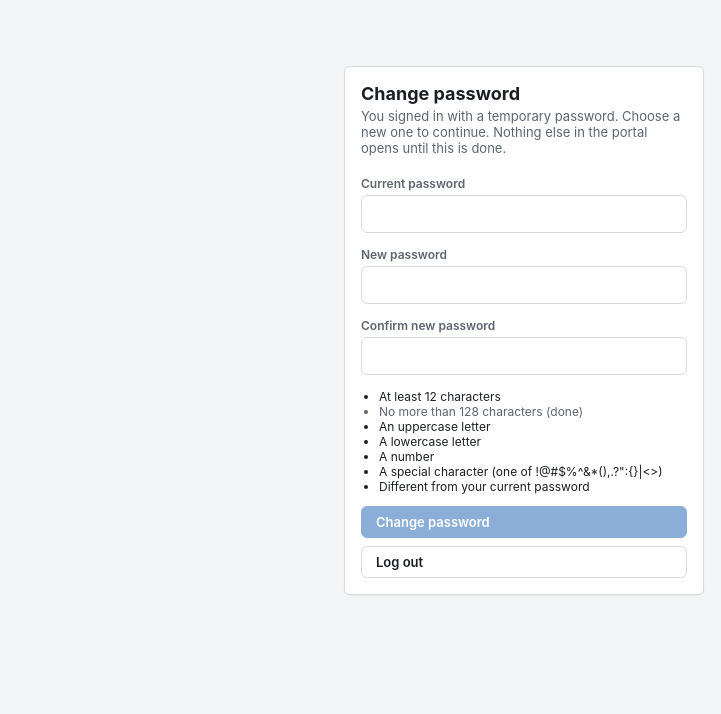
Scenario: First-login password change › shows the backend's error and stays on the screen when the change fails
expect the heading "Change password" is shown: met, box left=361, top=82, right=520, bottom=104
In the password field labelled "Current password": (524, 214) left=361, top=194, right=687, bottom=232, type "Temp-Password1!"
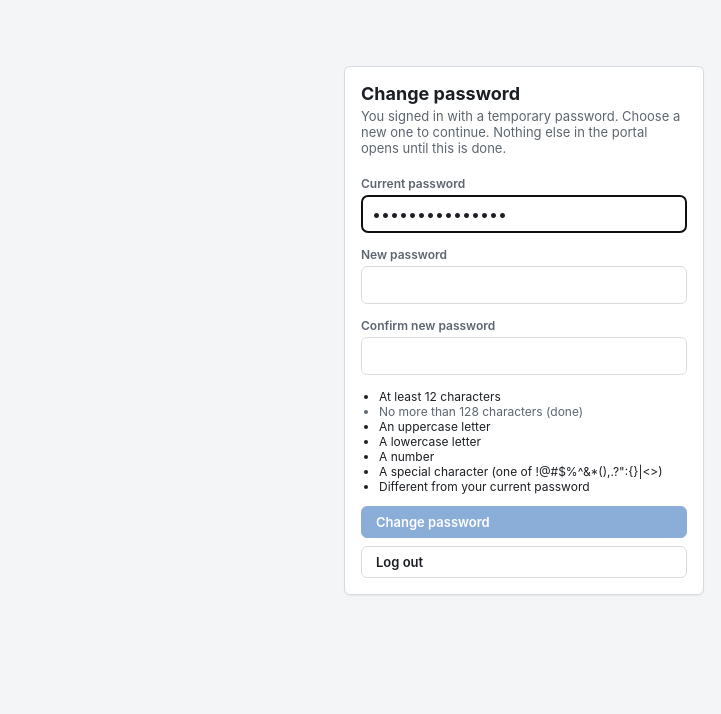
In the password field labelled "New password": (524, 284) left=361, top=266, right=687, bottom=304, type "Brand-New-Pass1!"
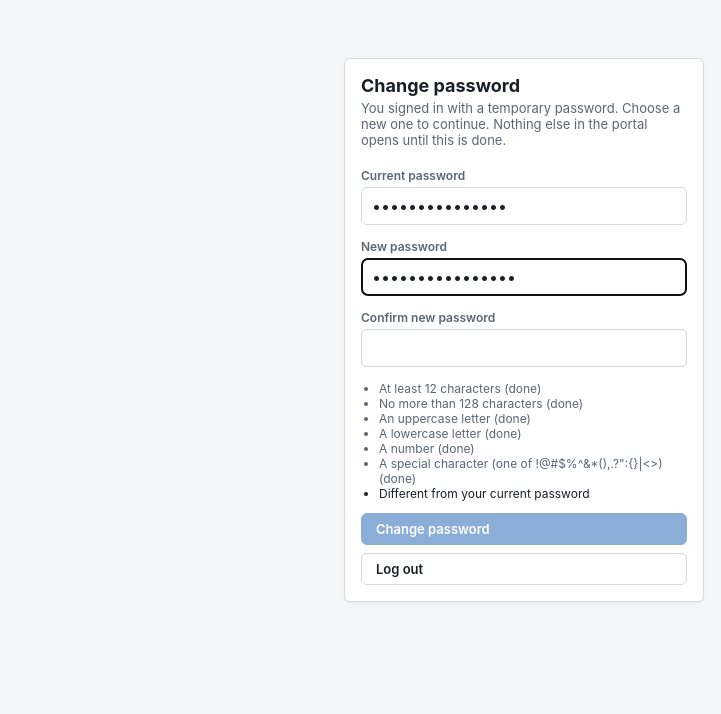
In the password field labelled "Confirm new password": (524, 348) left=361, top=329, right=687, bottom=367, type "Brand-New-Pass1!"
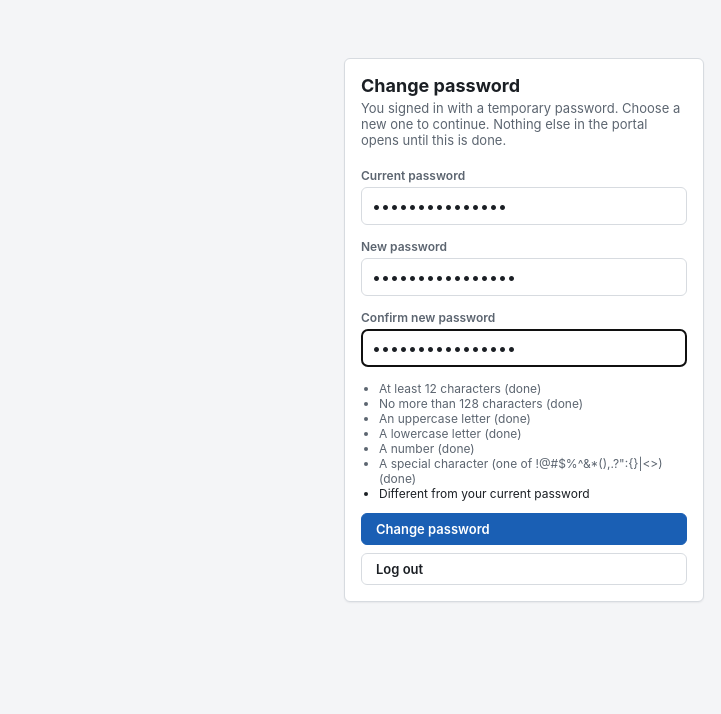
Click the button "Change password": (433, 529) left=361, top=513, right=687, bottom=545
(page scrolled)
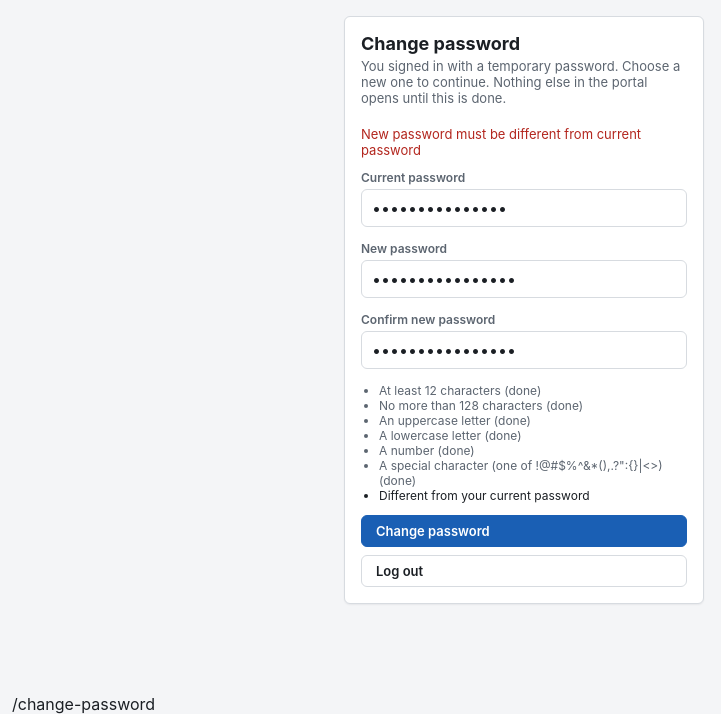
expect the text with test id "location" reads "/change-password": met, box left=12, top=694, right=155, bottom=713
expect the message reads "New password must be different from current password": met, box left=361, top=126, right=641, bottom=158
